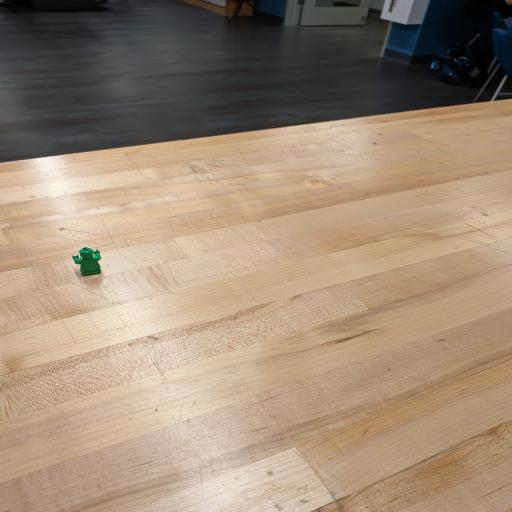Minifig: (73, 247, 101, 275)
